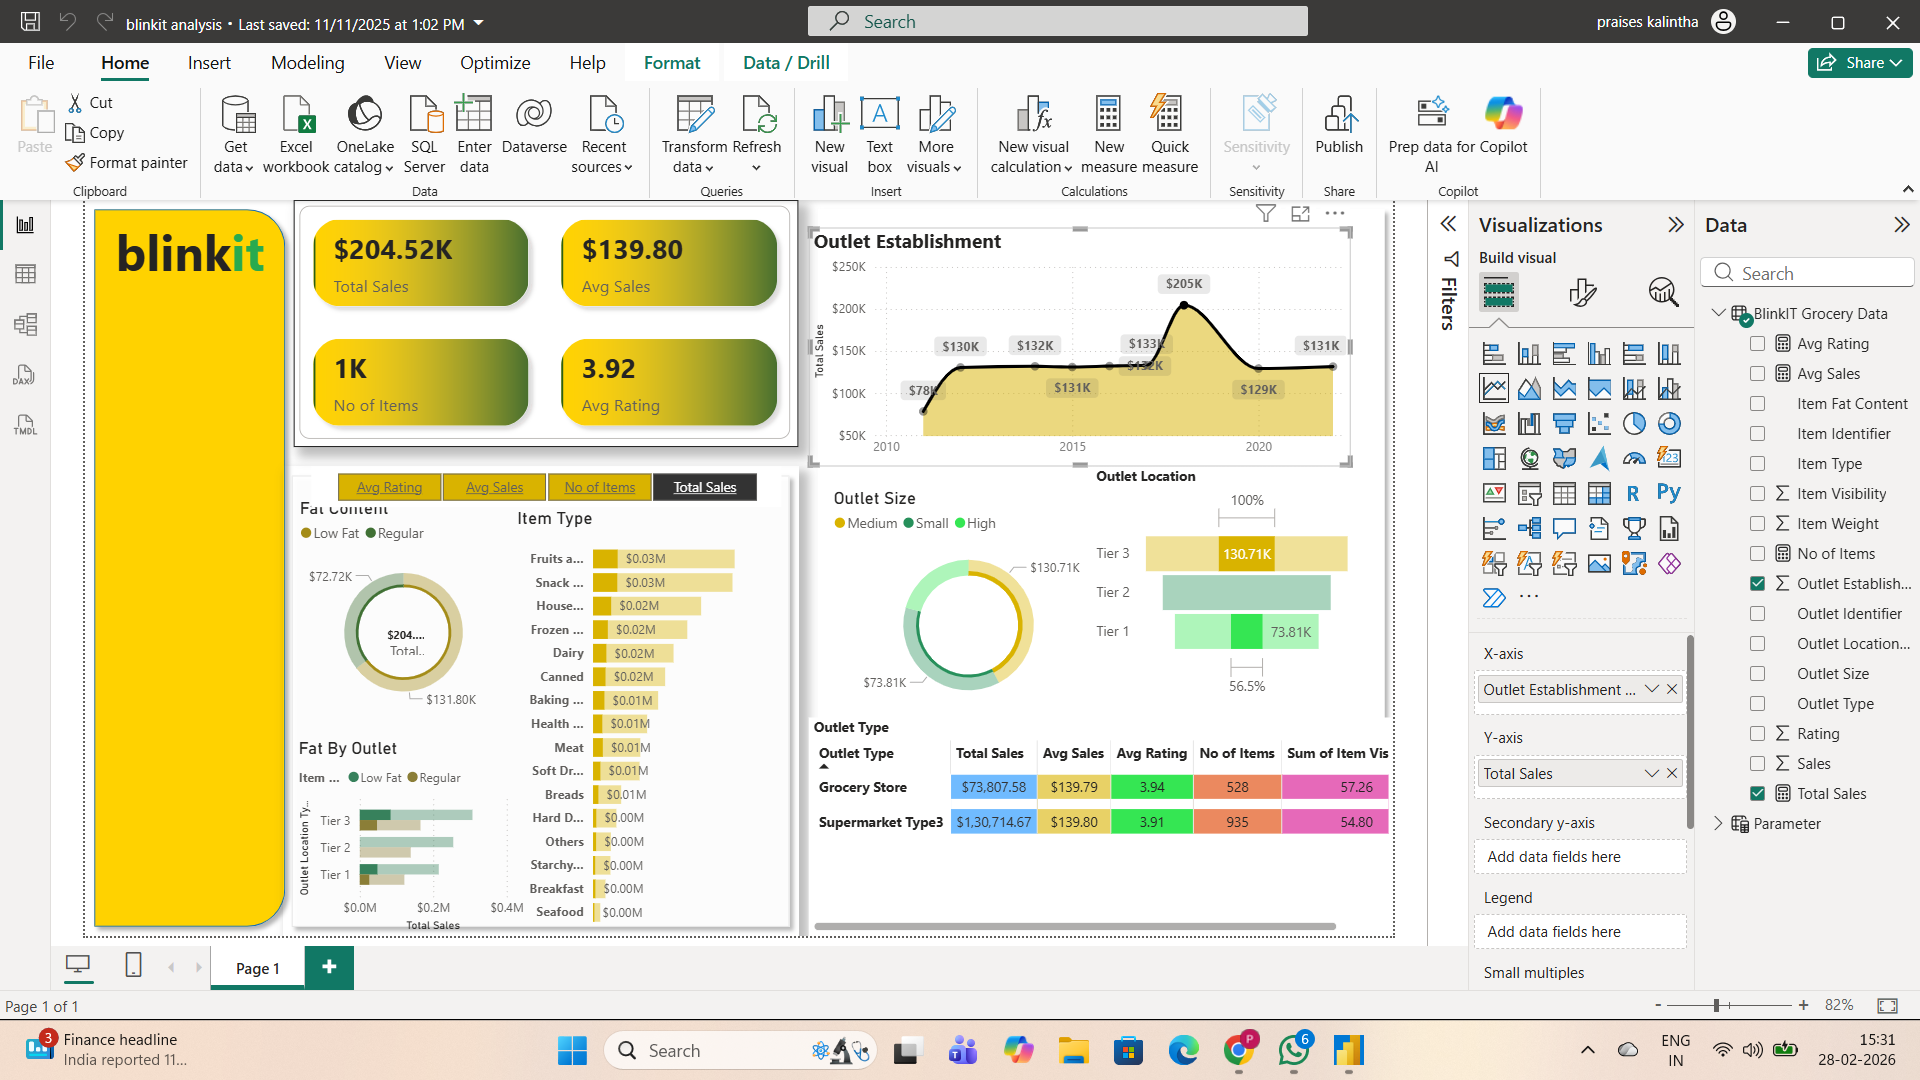

This screenshot's page, from the dashboard's own definition file:
{"tool":"powerbi","page":{"name":"Page 1","canvas":[1280,720],"ordinal":0},"visuals":[{"type":"shape","box":[0,0,205,720],"z":0},{"type":"textbox","box":[12.3,12.3,181.1,78.2],"z":1000},{"type":"cardVisual","fields":{"Data":["BlinkIT Grocery Data.Total Sales","BlinkIT Grocery Data.Avg Sales","BlinkIT Grocery Data.No of Items","BlinkIT Grocery Data.Avg Rating"]},"box":[204.5,0,494,241.5],"z":2000},{"type":"shape","box":[193.5,260.7,505,459.7],"z":3000},{"type":"donutChart","title":"Fat Content","fields":{"Y":["BlinkIT Grocery Data.Total Sales"],"Category":["BlinkIT Grocery Data.Item Fat Content"]},"box":[205.8,290.9,212.7,219.6],"z":4000},{"type":"slicer","fields":{"Values":["Parameter.Parameter"]},"box":[220.9,260.7,459.7,39.8],"z":5000},{"type":"cardVisual","fields":{"Data":["BlinkIT Grocery Data.Total Sales"]},"box":[275.8,400.7,72.7,49.4],"z":6000},{"type":"clusteredBarChart","title":"Fat By Outlet","fields":{"Y":["BlinkIT Grocery Data.Total Sales"],"Category":["BlinkIT Grocery Data.Outlet Location Type"],"Series":["BlinkIT Grocery Data.Item Fat Content"]},"box":[204.5,525.6,230.5,194.9],"z":7000},{"type":"barChart","title":"Item Type","fields":{"Y":["BlinkIT Grocery Data.Total Sales"],"Category":["BlinkIT Grocery Data.Item Type"]},"box":[418.5,300.5,263.5,419.9],"z":8000},{"type":"shape","box":[708.1,0,572.2,720.4],"z":9000},{"type":"lineChart","title":"Outlet Establishment ","fields":{"Category":["BlinkIT Grocery Data.Outlet Establishment Year"],"Y":["BlinkIT Grocery Data.Total Sales"]},"box":[708.1,27.4,531,233.3],"z":10000},{"type":"donutChart","title":"Outlet Size","fields":{"Y":["BlinkIT Grocery Data.Total Sales"],"Category":["BlinkIT Grocery Data.Outlet Size"]},"box":[727.3,281.3,274,225],"z":11000},{"type":"funnel","title":"Outlet Location","fields":{"Y":["Sum(BlinkIT Grocery Data.Sales)"],"Category":["BlinkIT Grocery Data.Outlet Location Type"]},"box":[983.9,260.7,261,230],"z":12000},{"type":"pivotTable","title":"Outlet Type","fields":{"Rows":["BlinkIT Grocery Data.Outlet Type"],"Values":["BlinkIT Grocery Data.Total Sales","BlinkIT Grocery Data.Avg Sales","BlinkIT Grocery Data.Avg Rating","BlinkIT Grocery Data.No of Items","Sum(BlinkIT Grocery Data.Item Visibility)"]},"box":[708.1,506.3,572.2,214.1],"z":13000}]}

Visuals, with their boxes on the page's 1280x720 design canvas (x1, y1, x2, y2). These are canvas units, not pixel positions in the 1920x1080 screenshot, which may show the page scaled, cropped or inside an application window:
shape: rect(0, 0, 205, 720)
textbox: rect(12, 12, 193, 90)
cardVisual - BlinkIT Grocery Data.Total Sales x BlinkIT Grocery Data.Avg Sales: rect(204, 0, 698, 242)
shape: rect(194, 261, 698, 720)
"Fat Content" donutChart: rect(206, 291, 418, 510)
slicer - Parameter.Parameter: rect(221, 261, 681, 300)
cardVisual - BlinkIT Grocery Data.Total Sales: rect(276, 401, 348, 450)
"Fat By Outlet" clusteredBarChart: rect(204, 526, 435, 720)
"Item Type" barChart: rect(418, 300, 682, 720)
shape: rect(708, 0, 1280, 720)
"Outlet Establishment " lineChart: rect(708, 27, 1239, 261)
"Outlet Size" donutChart: rect(727, 281, 1001, 506)
"Outlet Location" funnel: rect(984, 261, 1245, 491)
"Outlet Type" pivotTable: rect(708, 506, 1280, 720)
